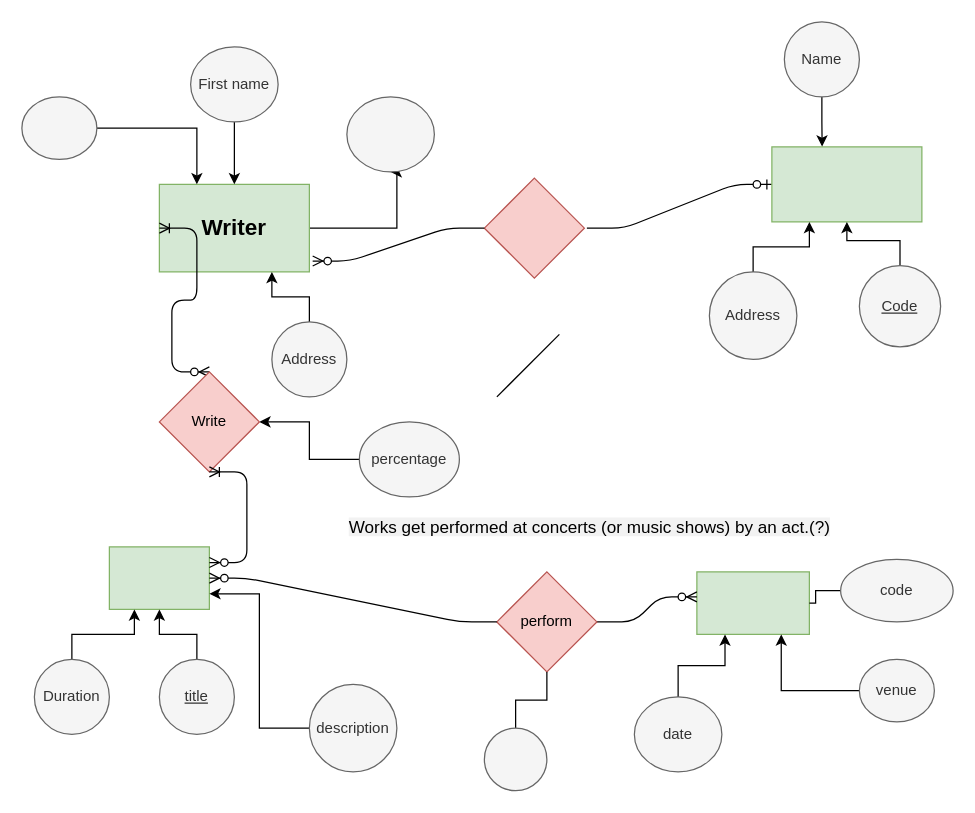
Some shapes in this 975 by 813 pixel diagram are drawn without their labels. Each missing label, with the box of its shape:
act: (483, 727, 547, 791)
concert: (696, 571, 809, 634)
Last name: (21, 96, 97, 159)
number: (346, 96, 434, 172)
Publisher: (771, 146, 922, 222)
sign: (483, 177, 584, 278)
works: (108, 546, 209, 609)
